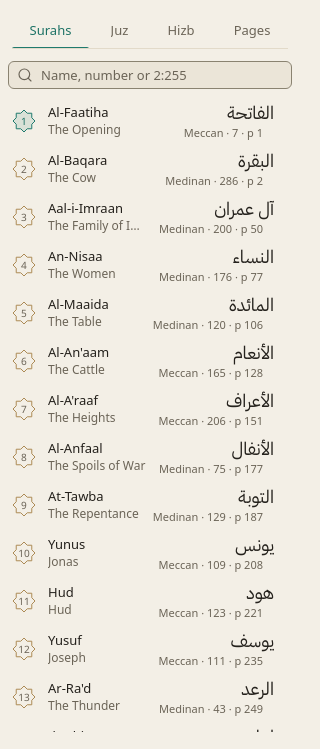
Test: surah list › explains a filter that matches nothing, and an out-of-range reference
Replace the text in the search field labelled "Name, number or 2:255" with "qqqzzz": (160, 75) [33,62,287,88]
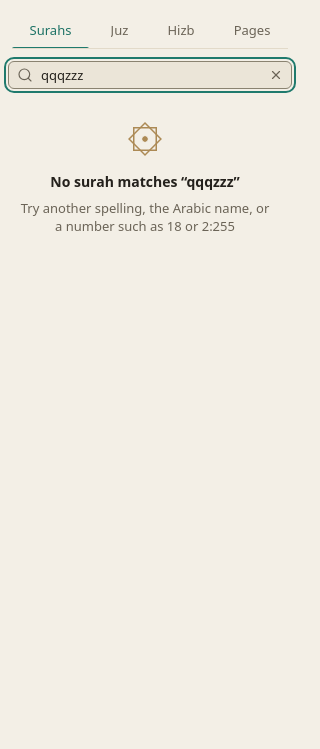
Expected: the text "No surah matches “qqqzzz”" is shown, [50,173,240,190]
Clear the search field named "Filter surahs": (149, 75) [33,62,265,88]
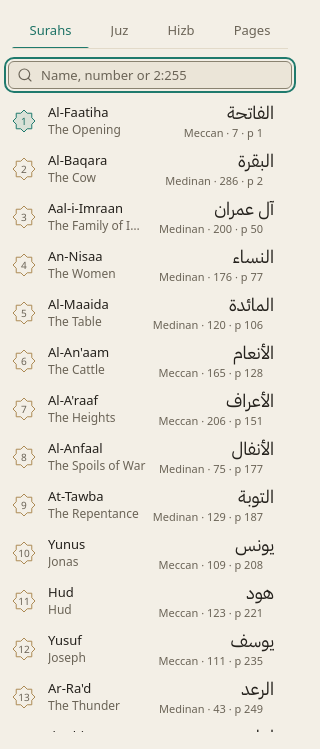
In the search field labelled "Name, number or 2:255": (160, 75) [33,62,287,88], type "2:300"
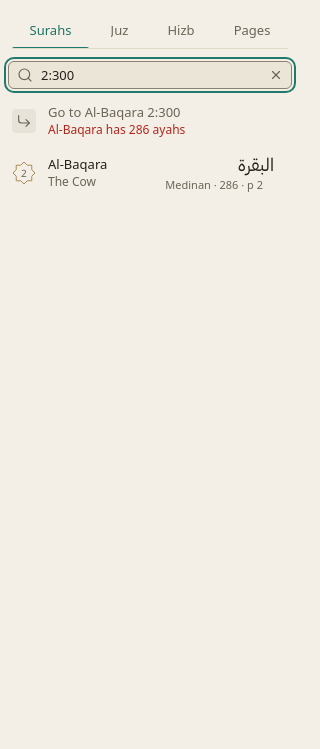
Expected: the button with class "jump" shows "Al-Baqara has 286 ayahs", [4,97,286,145]
